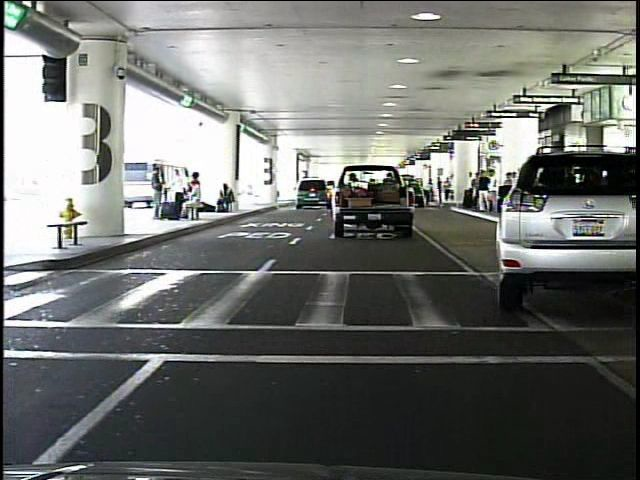person: (148, 164, 169, 221), (475, 167, 493, 214), (434, 174, 445, 205)
